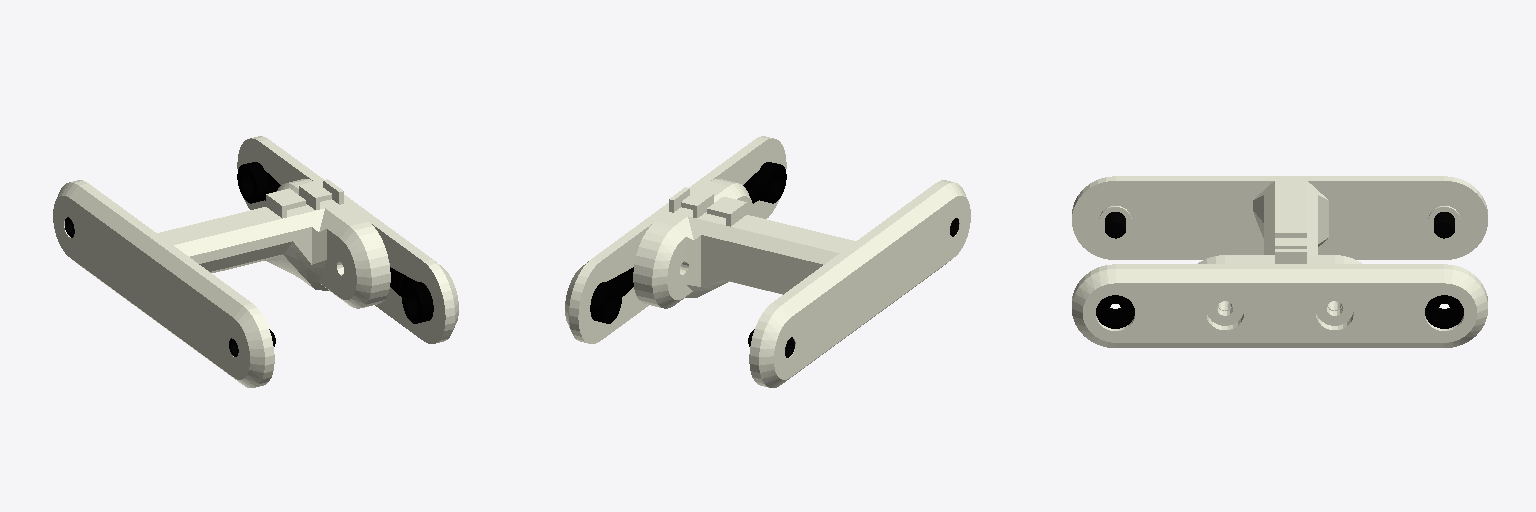
File: femur-merged.obj
The picture shows the model from 3 angles: view 1: azimuth 30°, elevation 25°; view 2: azimuth 150°, elevation 25°; view 3: azimuth 270°, elevation 25°; orthographic projection.
Visible parts, largest first — view 1: Solid1.004; view 2: Solid1.004; view 3: Solid1.004.
Boxes of the visible parts, <box> form: Solid1.004: <box>53,136,458,387</box>; Solid1.004: <box>565,136,970,387</box>; Solid1.004: <box>1072,176,1487,347</box>.
Bounding box in the file's own units: 44 × 18.5 × 76.